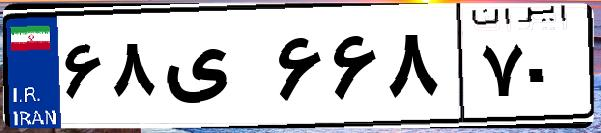0: (525, 38, 570, 115)
6: (270, 28, 330, 110), (330, 28, 385, 110), (57, 26, 110, 100)
7: (475, 38, 525, 113)
8: (385, 28, 445, 110), (110, 28, 158, 98)
ی: (158, 20, 270, 120)
